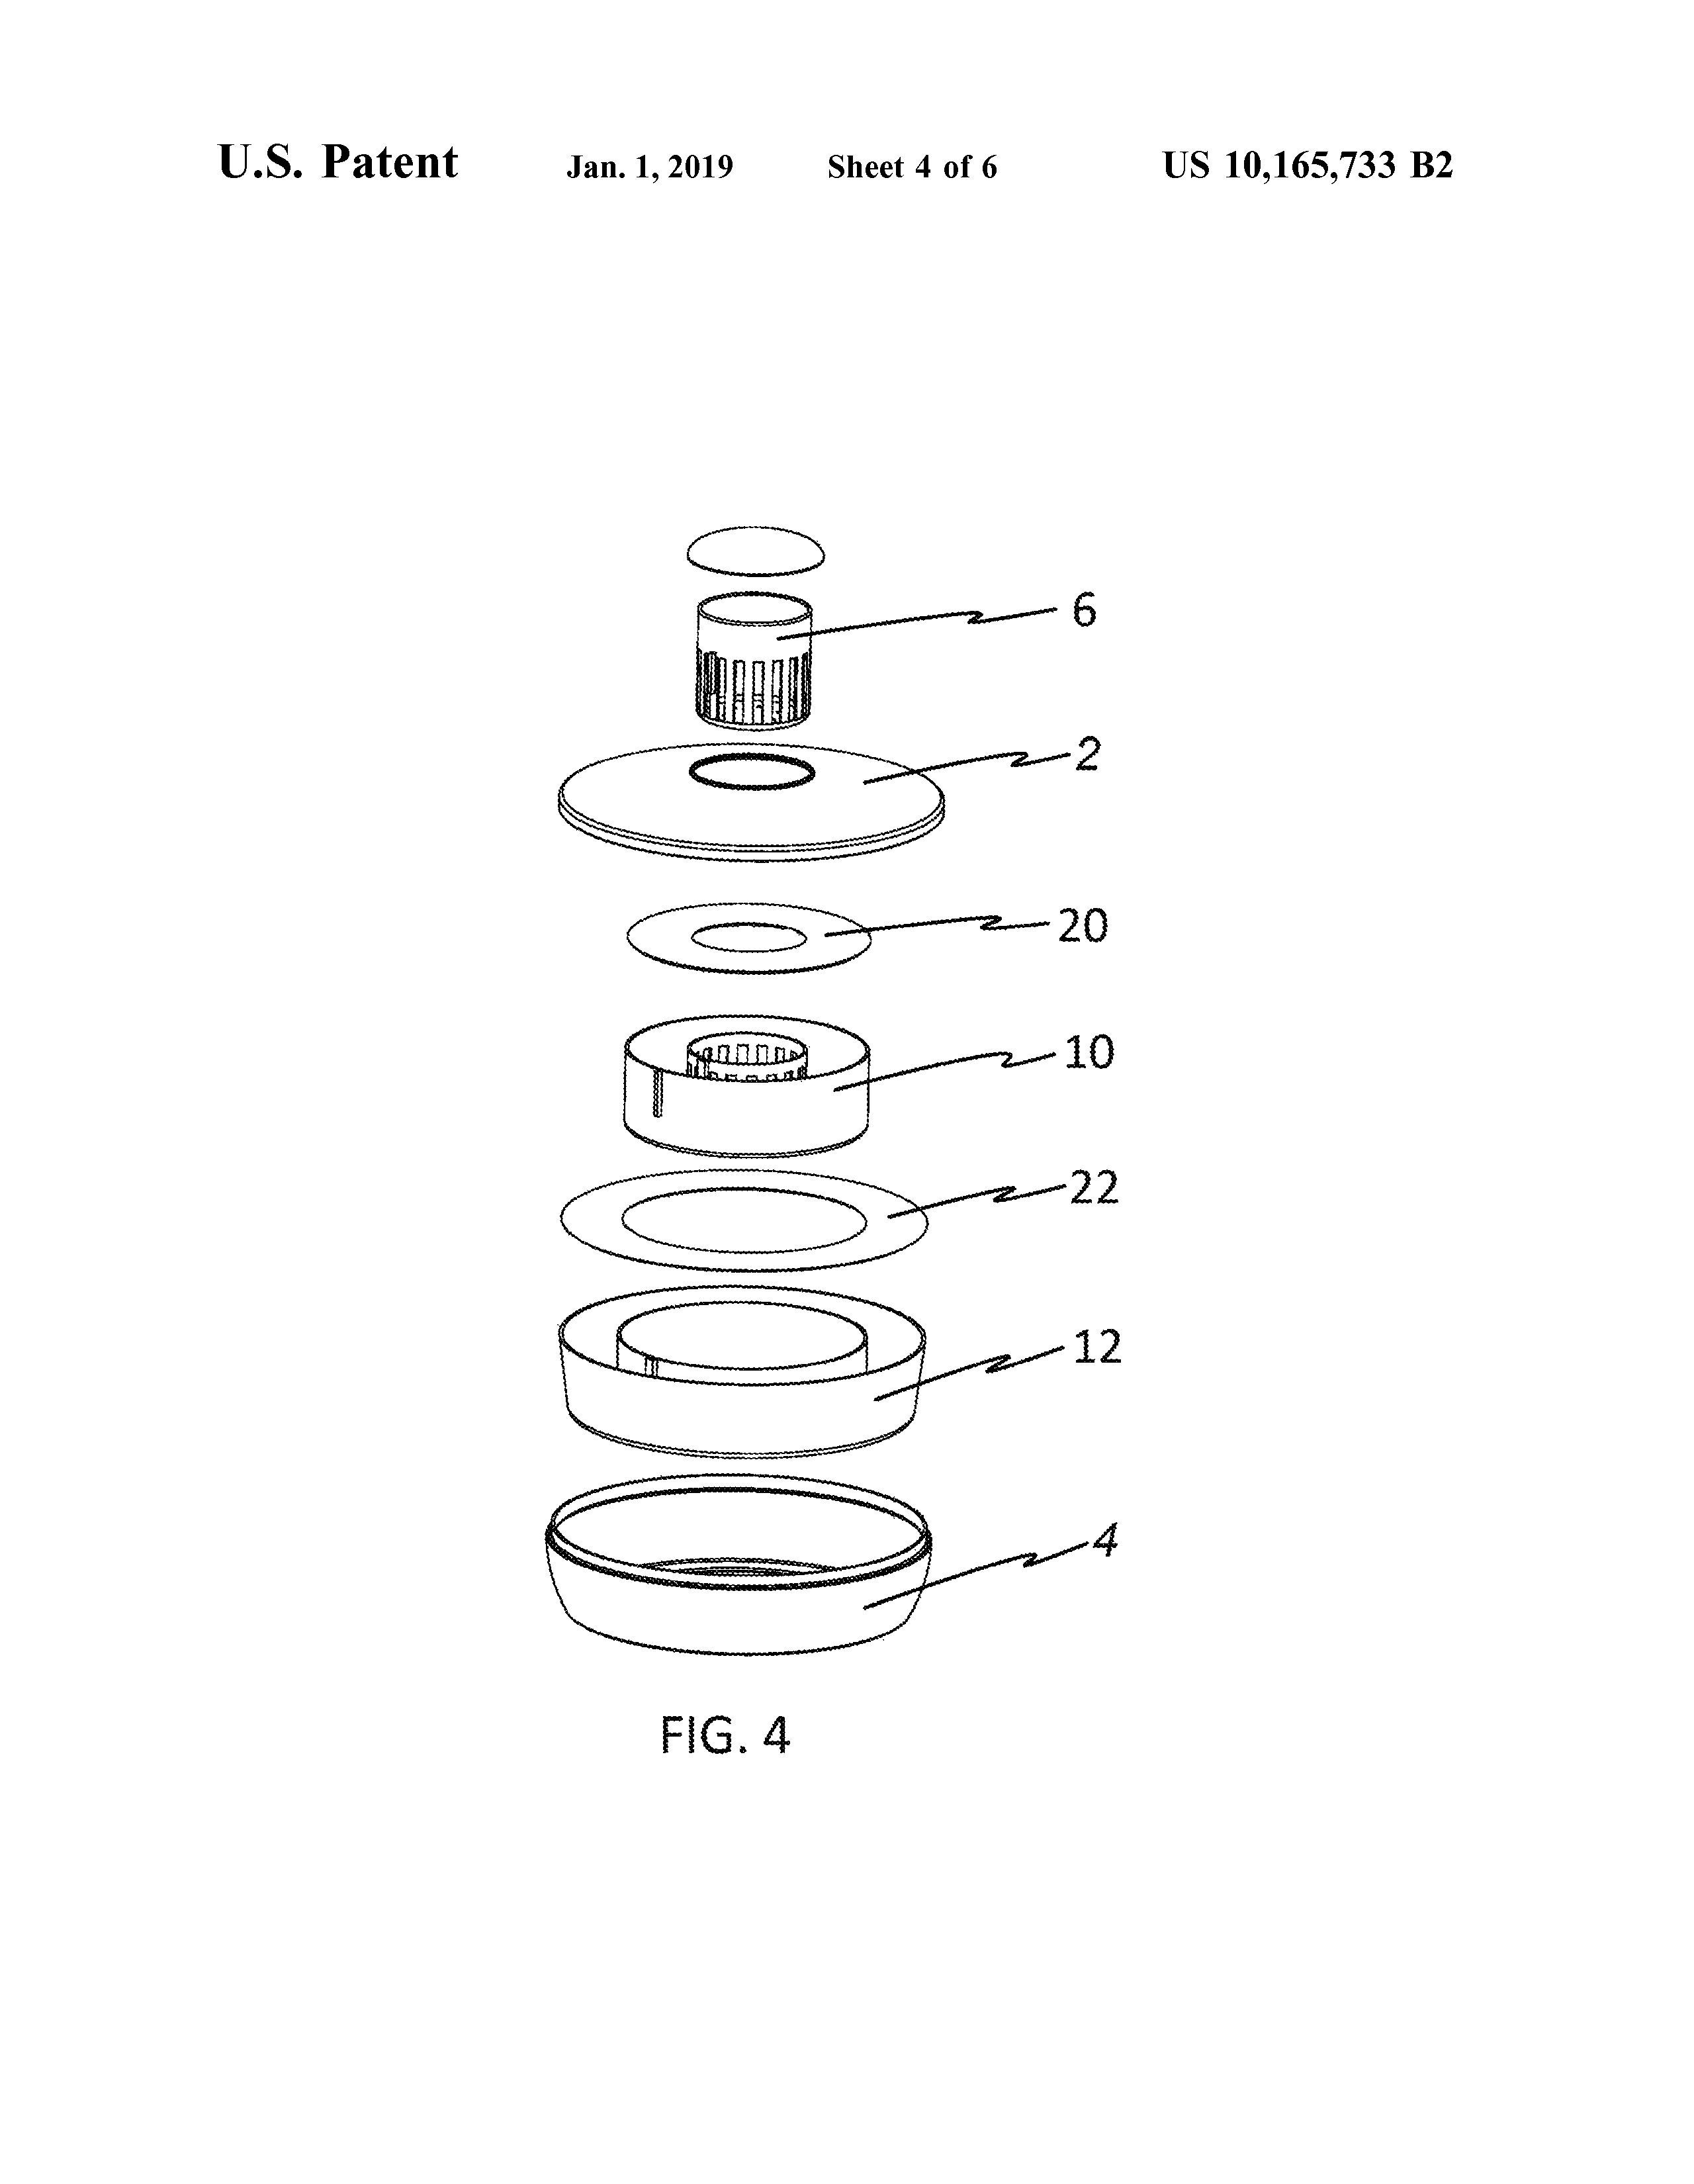patent image: (514, 423, 1176, 1815)
